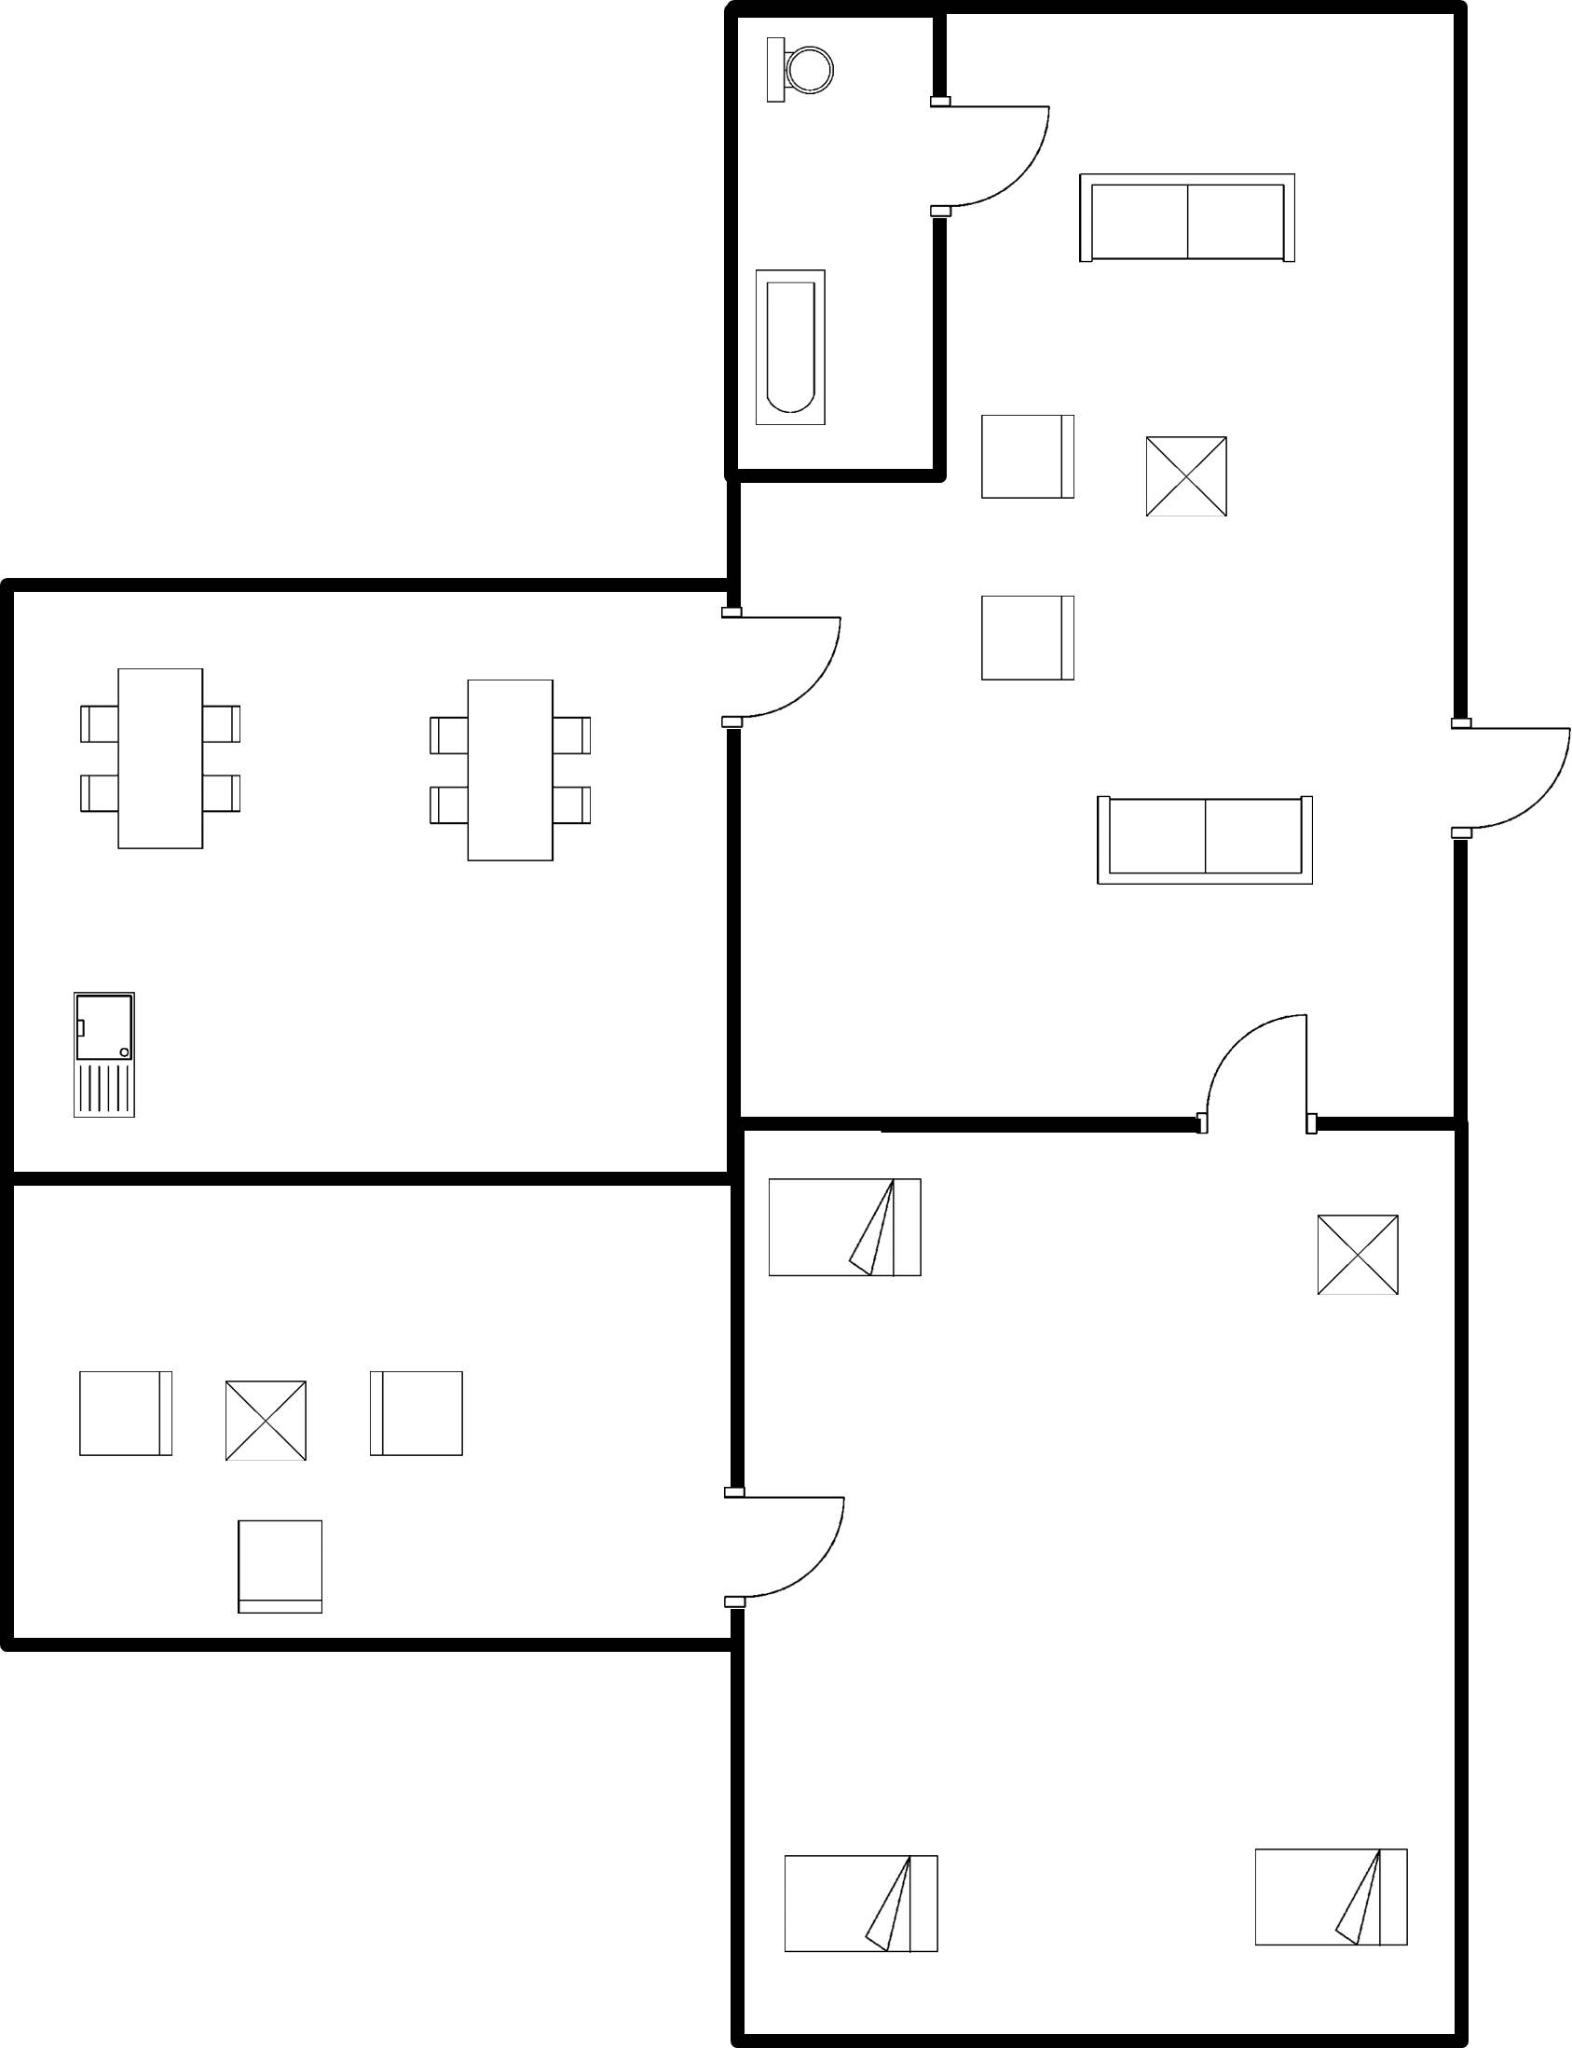bed: (765, 1842, 956, 1969), (758, 1158, 936, 1292), (1243, 1832, 1427, 1960)
dining_table: (405, 667, 609, 872), (64, 654, 261, 865)
sink: (63, 981, 154, 1133)
sofa: (1073, 780, 1336, 895), (1065, 157, 1306, 279), (357, 1361, 477, 1475), (59, 1356, 185, 1465), (223, 1506, 335, 1624)
toilet: (750, 25, 837, 119)
tub: (743, 256, 837, 434)
